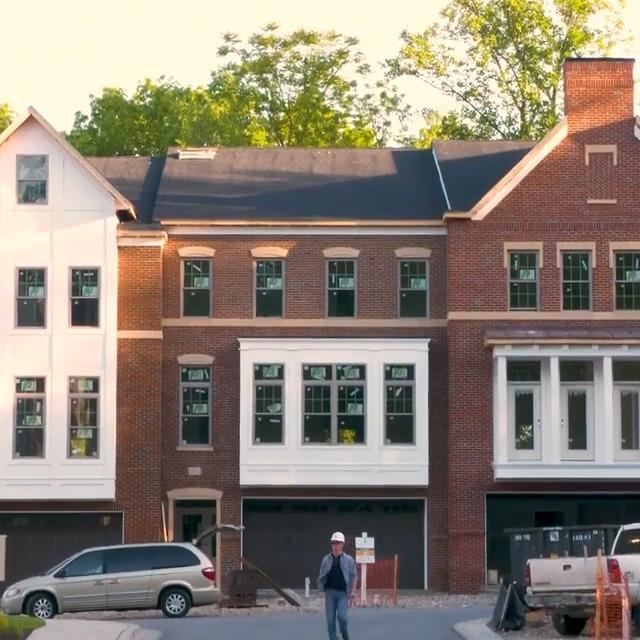Hardhat: (332, 531, 344, 541)
NO-Mask: (333, 544, 344, 552)
NO-Safety Vest: (322, 553, 354, 591)
Person: (317, 529, 356, 640)
mini-van: (0, 522, 245, 617)
truck: (527, 518, 640, 634)
